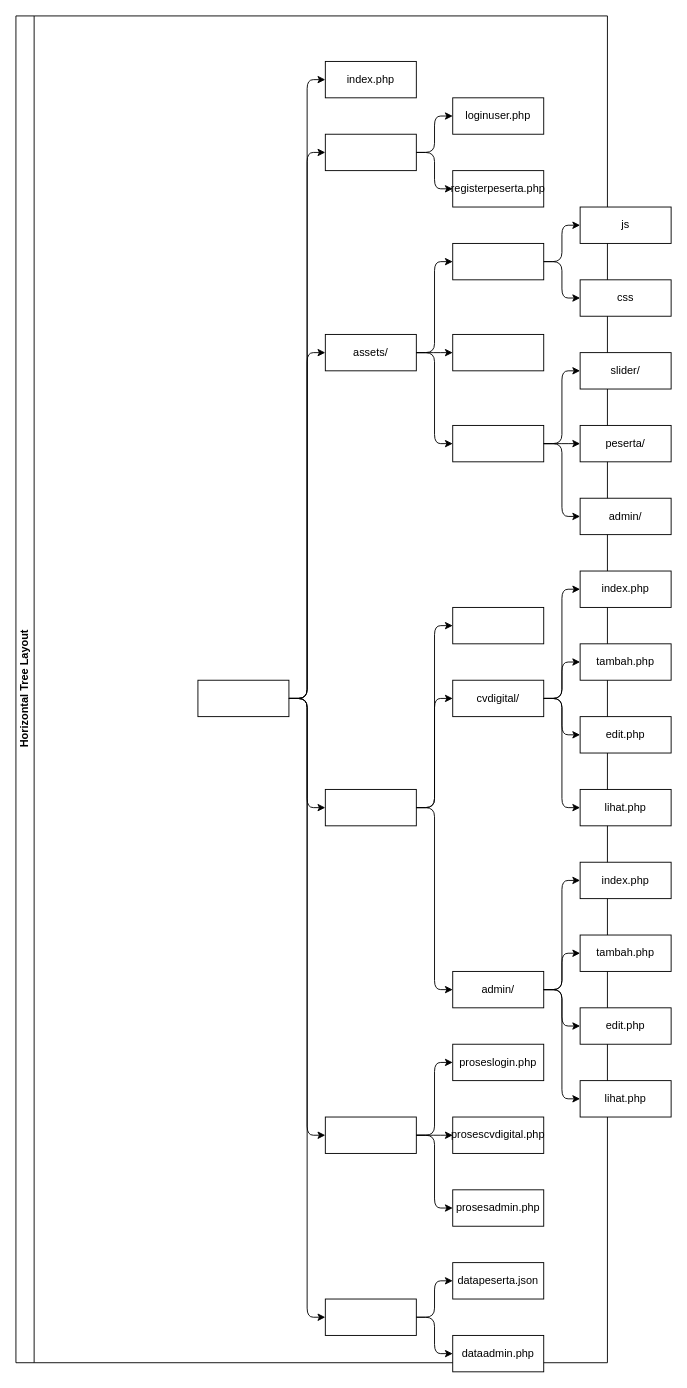
Some shapes in this 687 by 1388 pixel diagram are drawn without their labels. The box of each missing label's shape, as (x1, y1, x2, y2) in pixels:
auth/: (324, 133, 416, 171)
cvdigitalshifa/: (197, 679, 289, 717)
dashboard.php: (452, 607, 544, 644)
data/: (324, 1298, 416, 1335)
dist: (452, 243, 544, 280)
image/: (452, 425, 544, 462)
pages/: (324, 789, 416, 826)
plugins/: (452, 334, 544, 371)
proses/: (324, 1116, 416, 1153)
